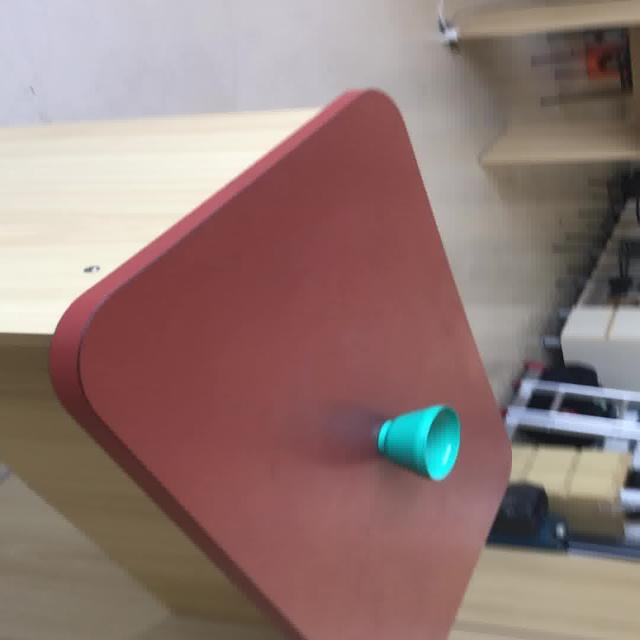bowl: (48, 86, 515, 638)
